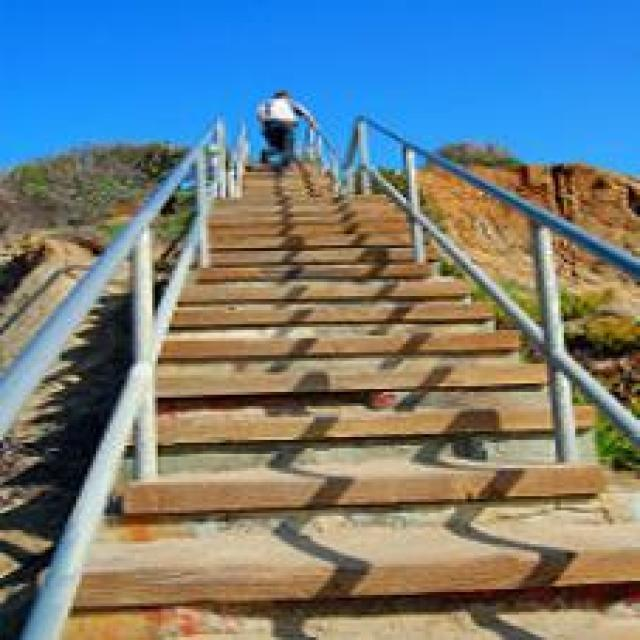stairs: (0, 152, 637, 637)
